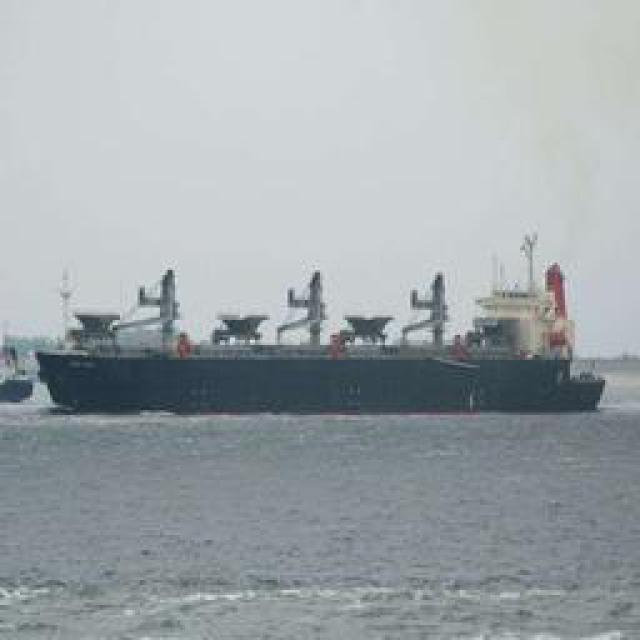Ship: (12, 255, 630, 420)
